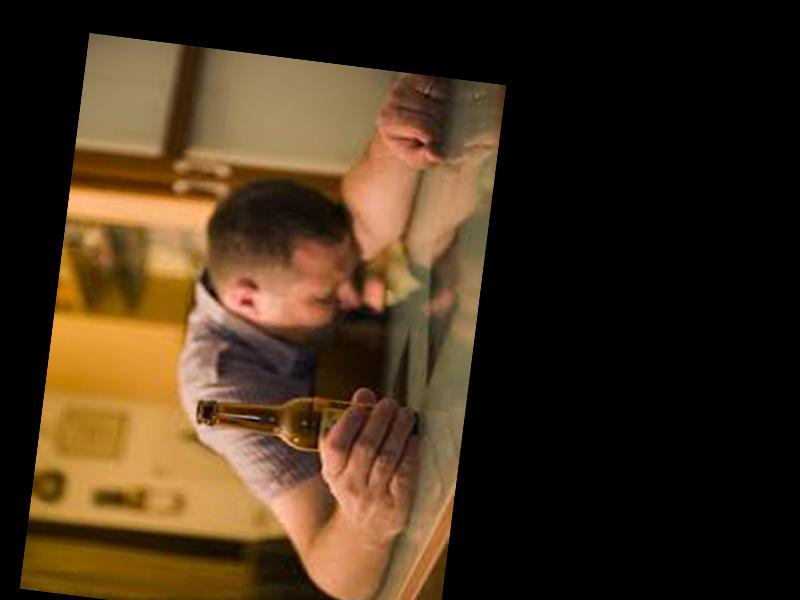Beer: (192, 384, 421, 461)
